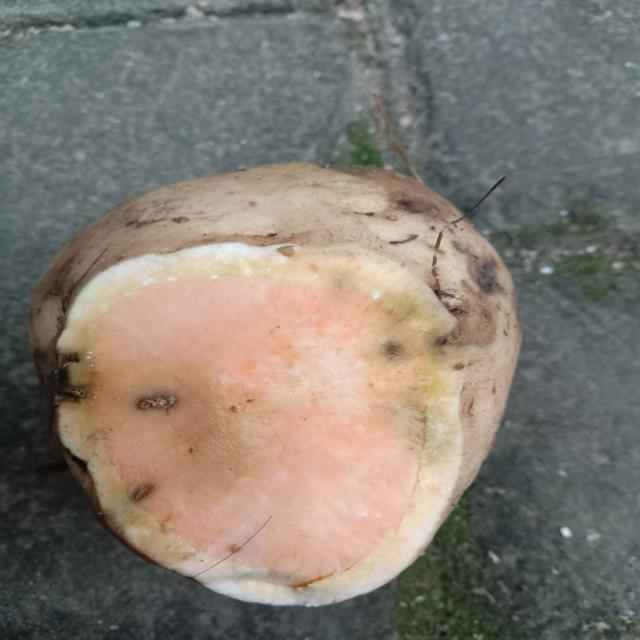Sick Sweet Potato_Tuber Rot: (57, 244, 462, 605)
